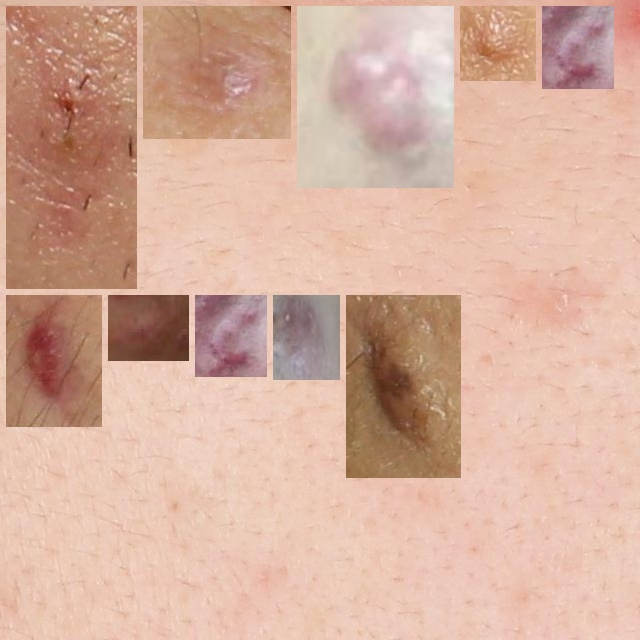nodule: (14, 14, 129, 281), (305, 14, 446, 180), (354, 303, 453, 470), (151, 14, 283, 131), (14, 303, 94, 419), (550, 14, 606, 81), (203, 303, 259, 369), (468, 14, 528, 73), (281, 303, 332, 372), (116, 303, 181, 353)
